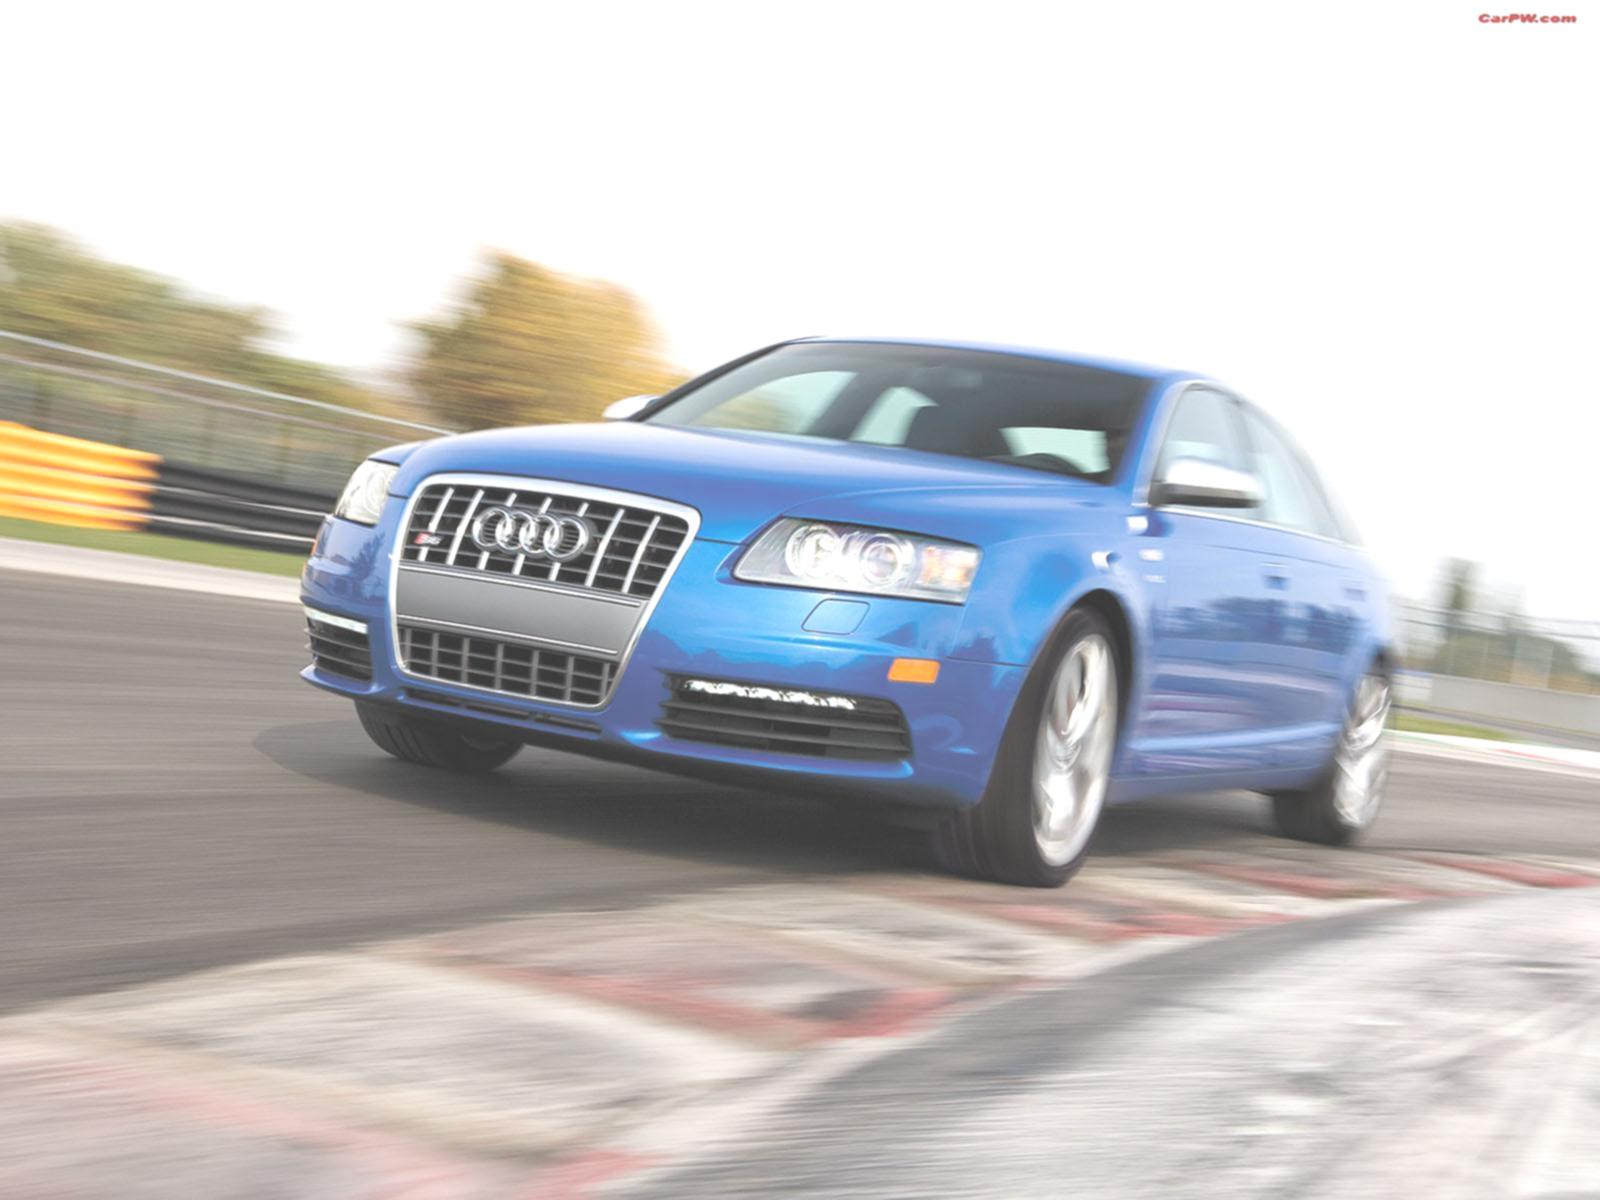Audi: (456, 495, 600, 579)
